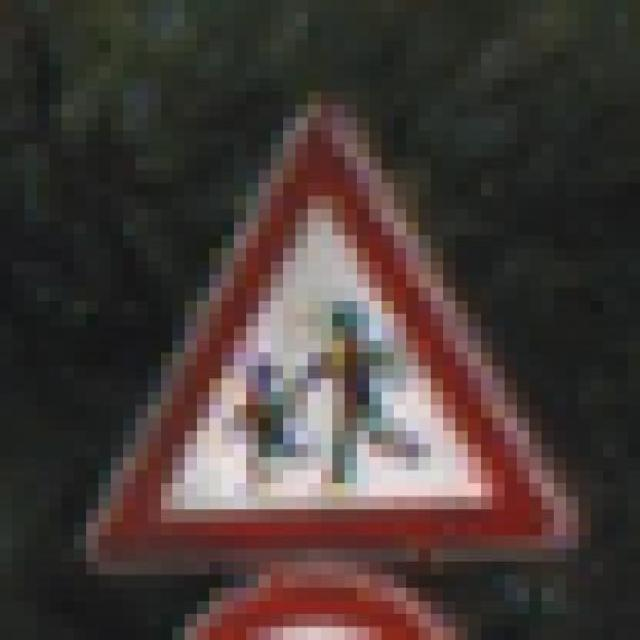Beware of children: (74, 84, 591, 567)
